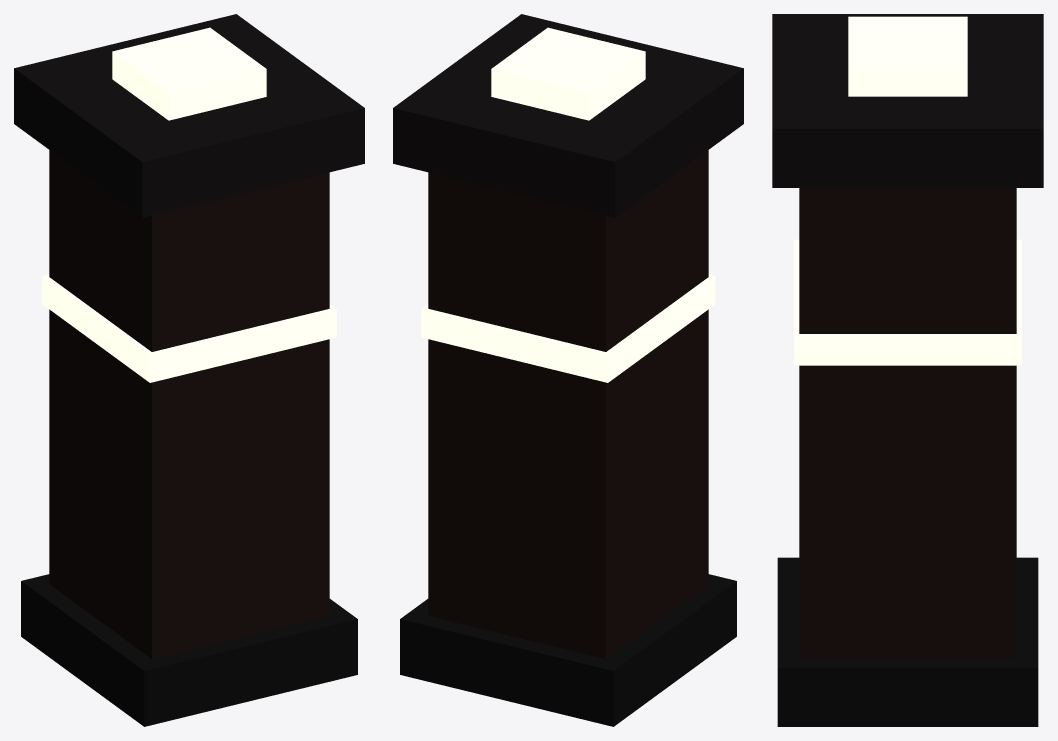
Rendered from fence_post.glb.
3 views of the same model, side by side, from view 1: azimuth 30°, elevation 25°; view 2: azimuth 150°, elevation 25°; view 3: azimuth 270°, elevation 25° (orthographic). The views are drawn at different scales.
Parts seen in each view (by area): view 1: fence_post; view 2: fence_post; view 3: fence_post.
Part boxes in pixels (x1,y1,x2,y2): fence_post: [14, 14, 364, 726]; fence_post: [393, 14, 743, 726]; fence_post: [772, 14, 1043, 726].
Size of the model in its own units: 0.5 by 1.28 by 0.5.
